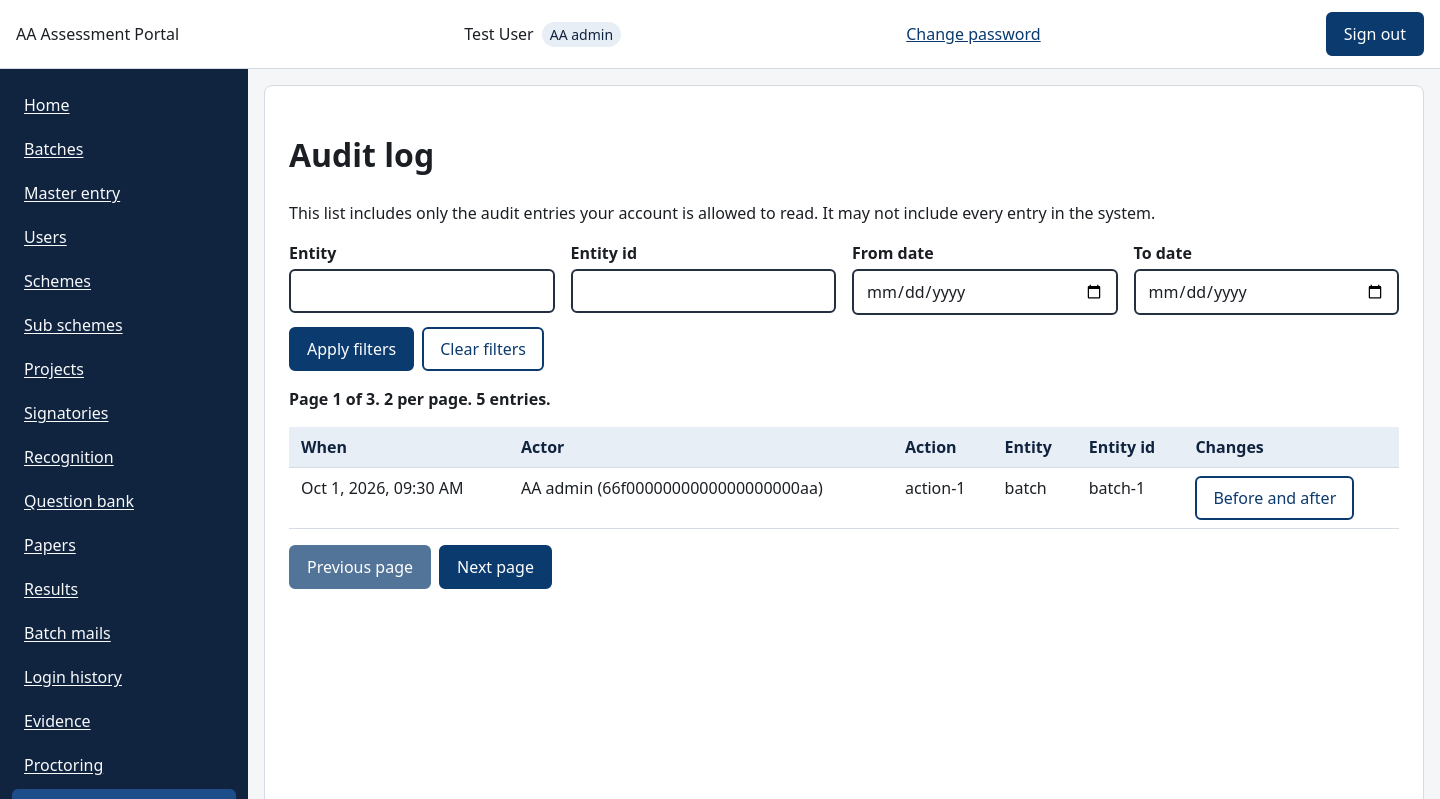
it: sends entity, entity id, and the local date range, then returns to page 1
Click the button "Next page": [496, 567] box [439,545,552,589]
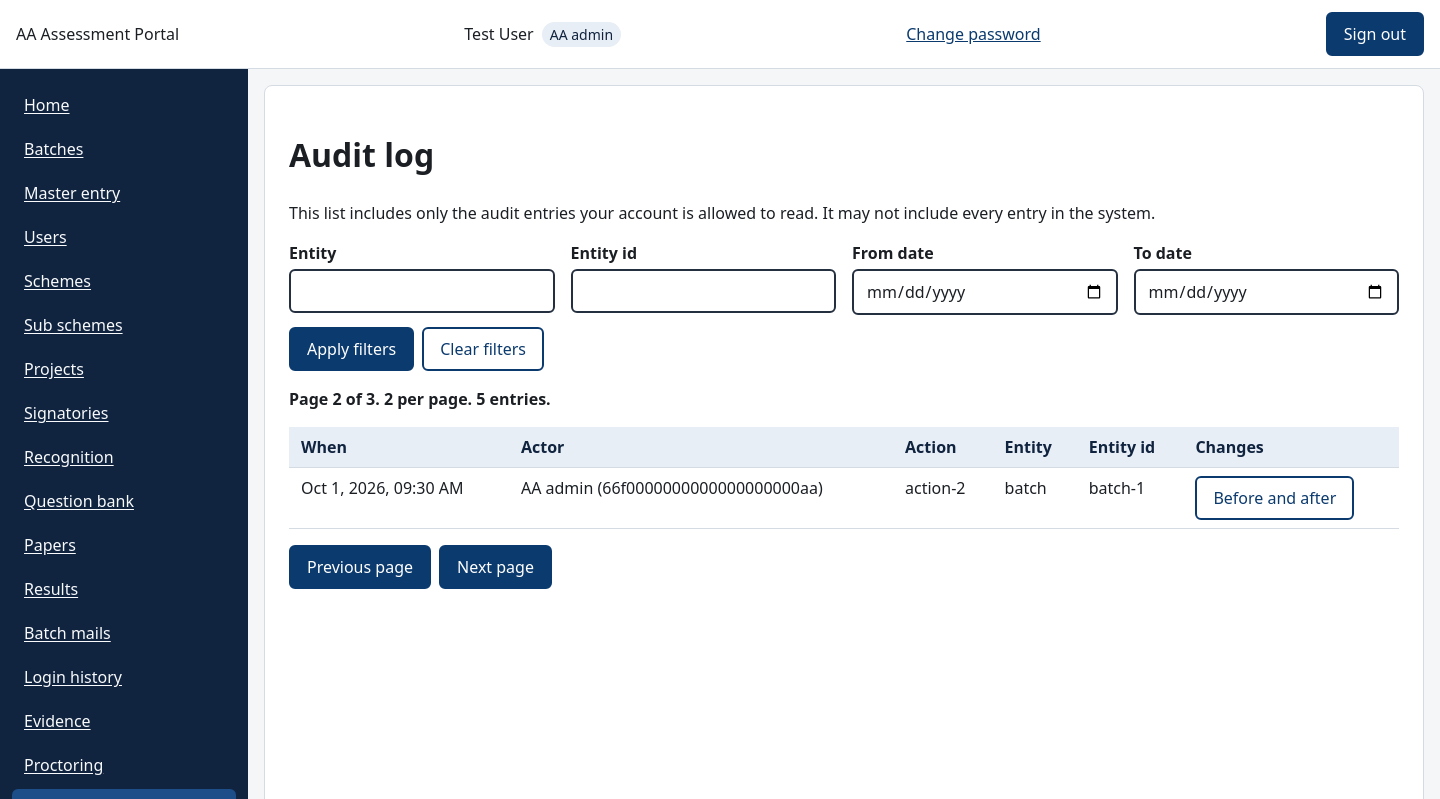
expect the cell "action-2" is shown: met, box [893,468,992,528]
In the field labelled "Entity": [422, 291] box [289,269,554,313], type "batch"
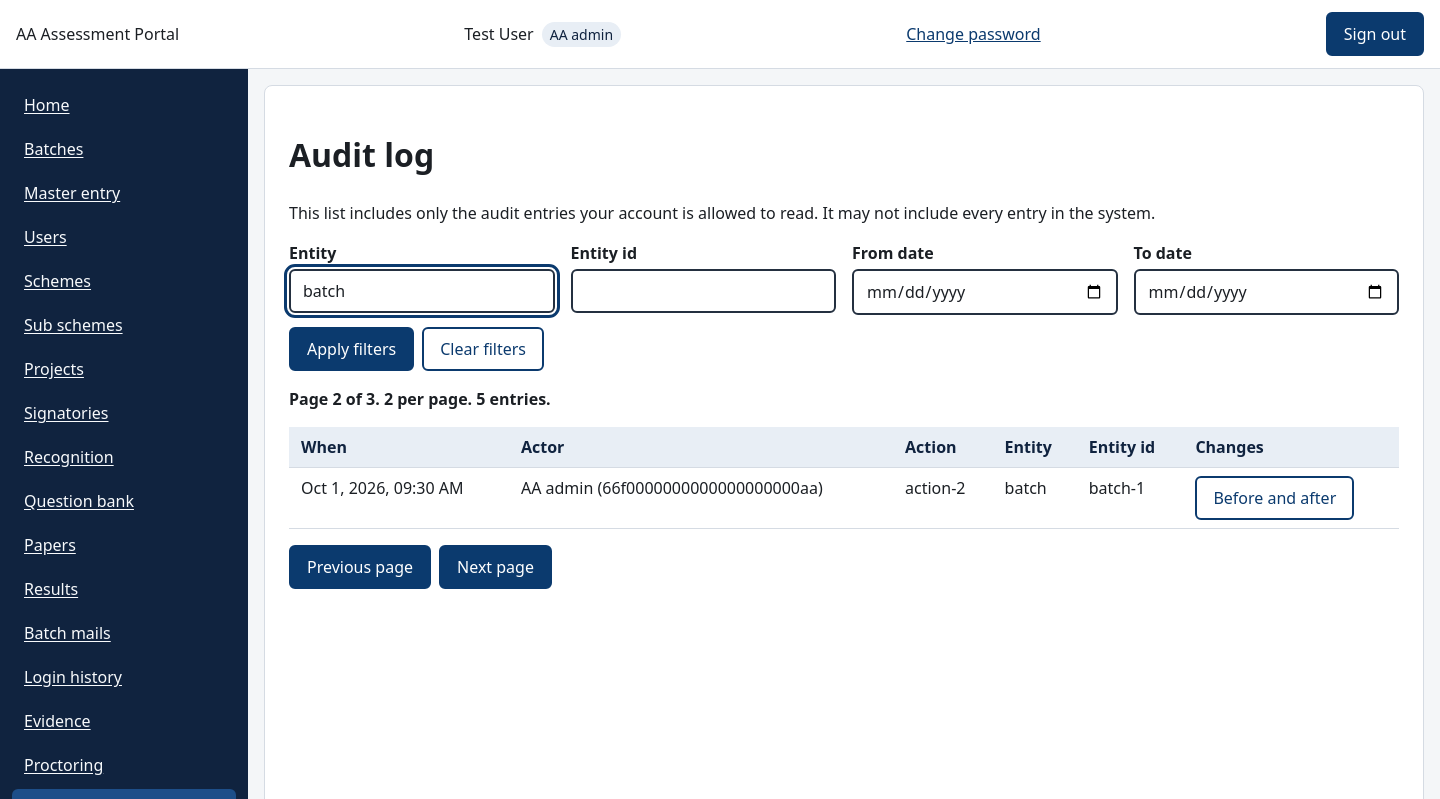
In the field labelled "Entity id": [703, 291] box [570,269,836,313], type "batch-9"
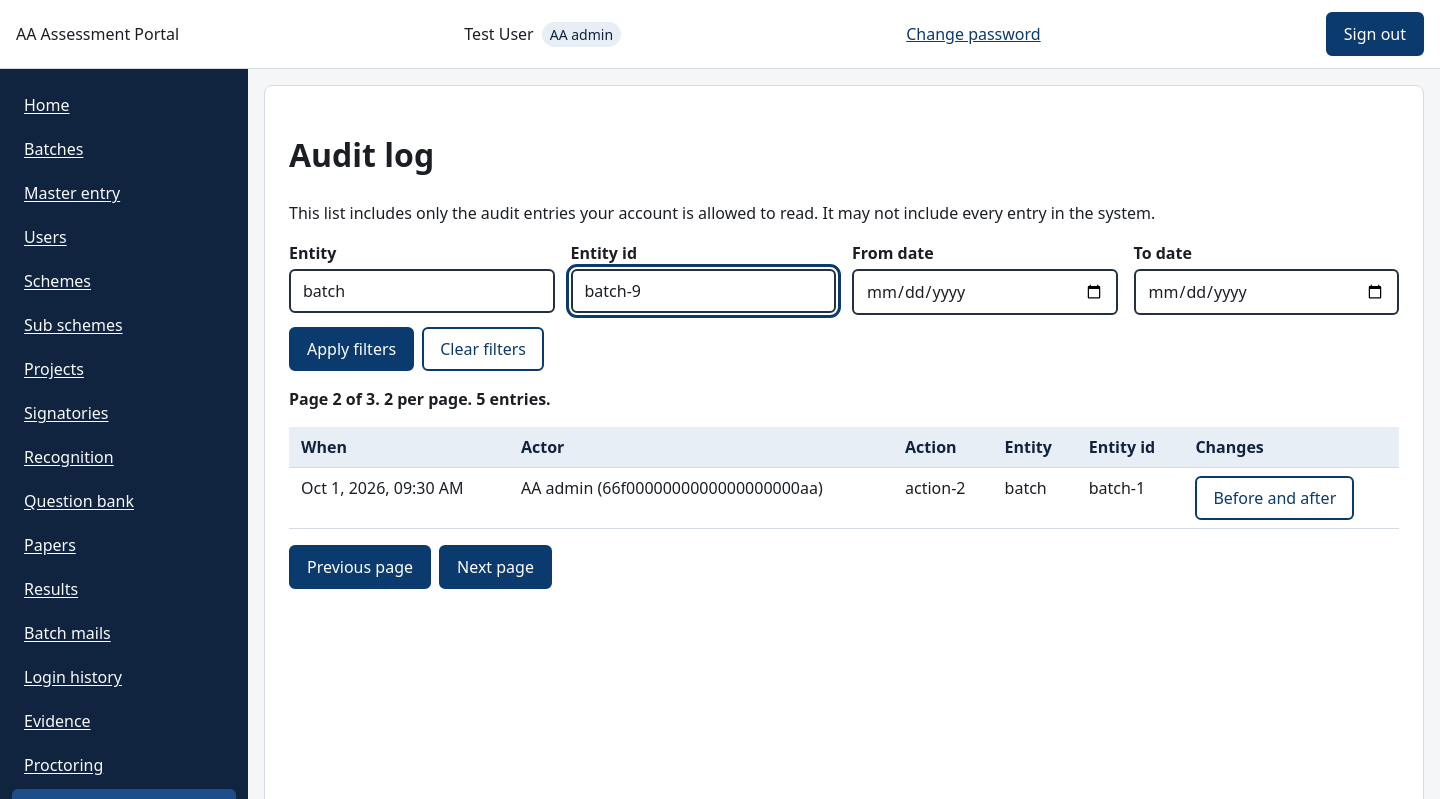
In the date field labelled "From date": [985, 292] box [852,269,1118,315], type "2026-10-01"
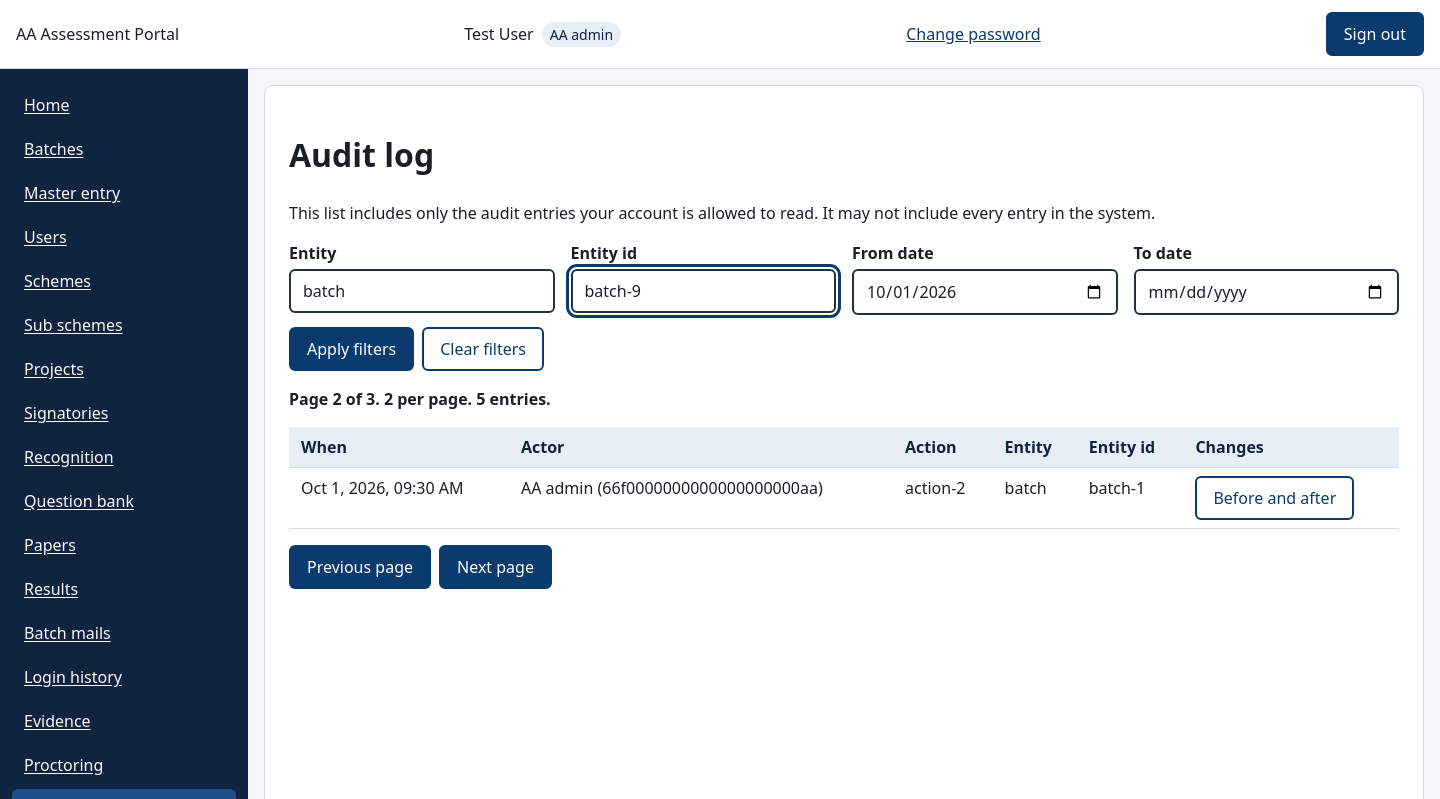
In the date field labelled "To date": [1266, 292] box [1134,269,1399,315], type "2026-10-02"
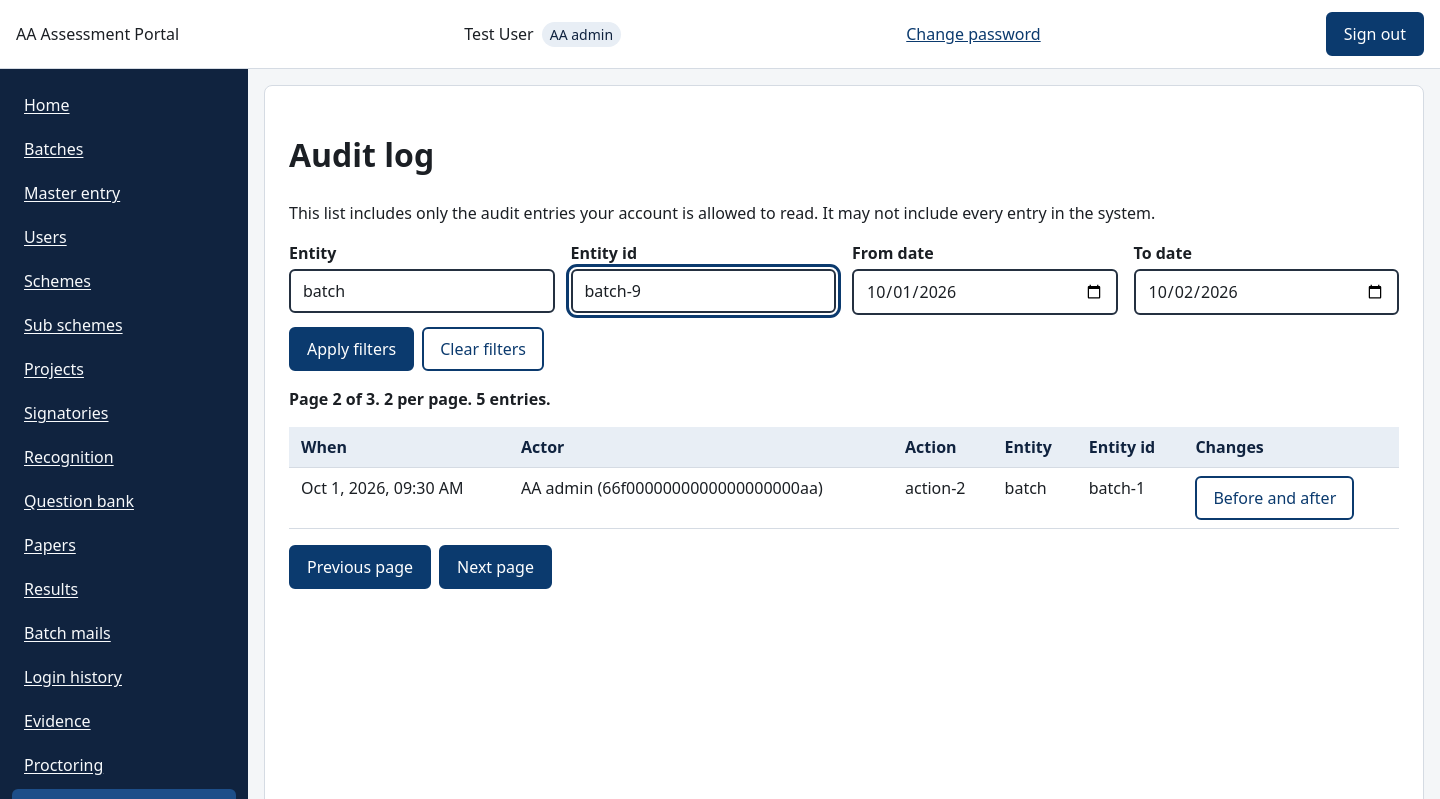
Click the button "Apply filters": [352, 349] box [289,327,414,371]
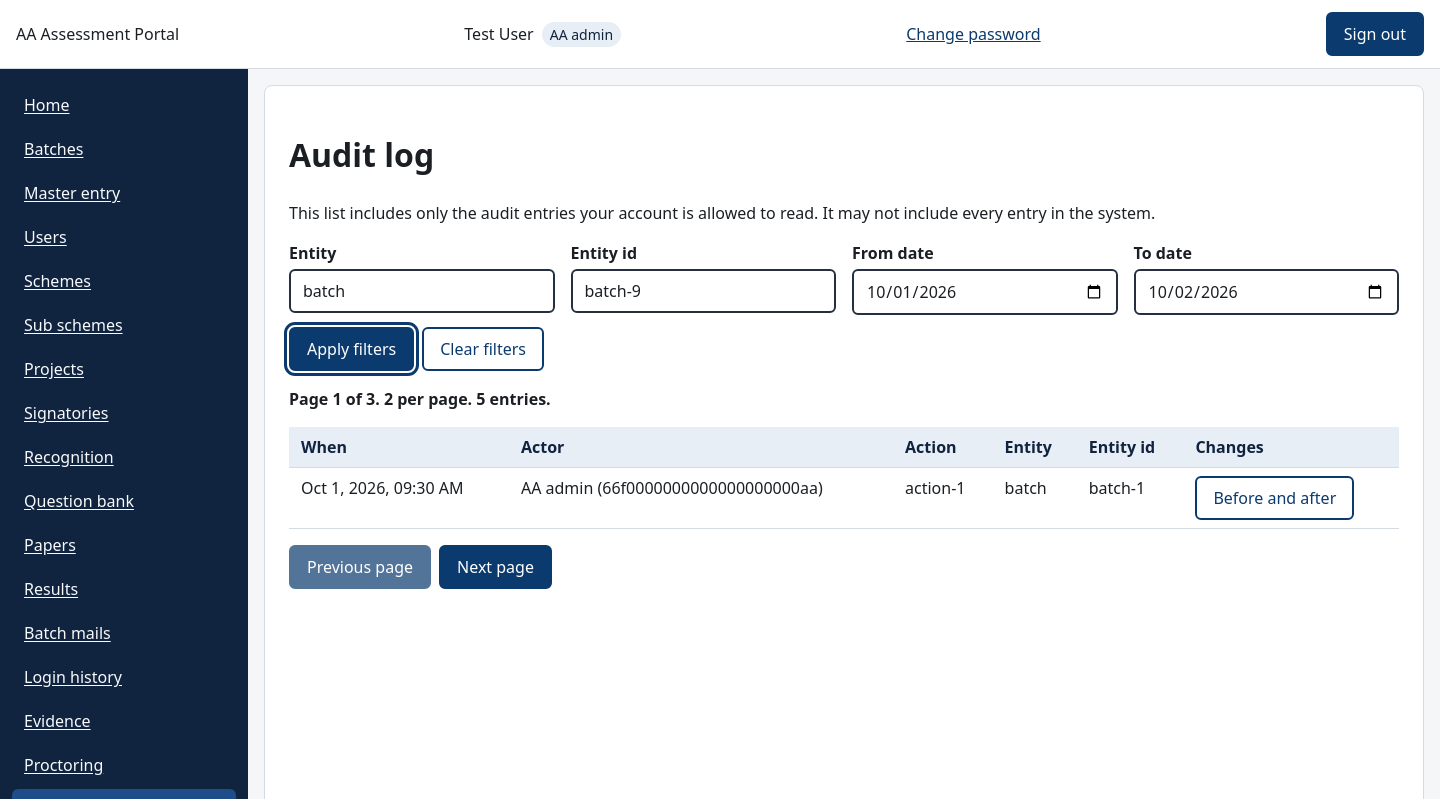
expect the cell "batch" is shown: met, box [993,468,1077,528]
expect the cell "action-1" is shown: met, box [893,468,992,528]
